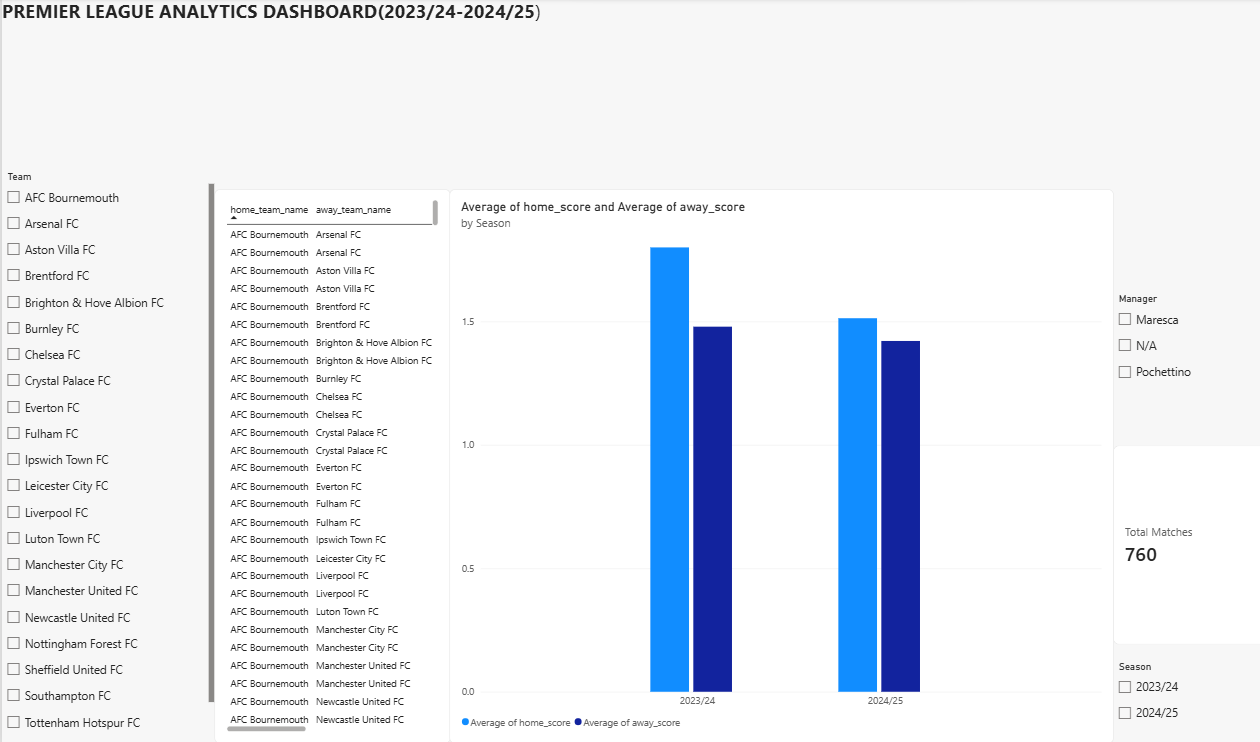

The dashboard page shown, as its layout file describes it:
{"tool":"powerbi","page":{"name":"Page 1","canvas":[1920,1080],"ordinal":0},"visuals":[{"type":"tableEx","fields":{"Values":["matches_export.home_team_name","matches_export.away_team_name","matches_export.home_score","matches_export.away_score","matches_export.utc_date.Variation.Date Hierarchy.Year","matches_export.utc_date.Variation.Date Hierarchy.Quarter","matches_export.utc_date.Variation.Date Hierarchy.Month","matches_export.utc_date.Variation.Date Hierarchy.Day","matches_export.Season"]},"box":[306.9,276.4,341.4,802.7],"z":0},{"type":"slicer","fields":{"Values":["TeamAppearances.Team"]},"box":[0,250,306.9,829.1],"z":1},{"type":"slicer","fields":{"Values":["matches_export.Season"]},"box":[1609.5,959.2,310.9,119.9],"z":2},{"type":"slicer","fields":{"Values":["matches_export.Manager"]},"box":[1609.5,426.8,310.9,229.6],"z":3},{"type":"cardVisual","fields":{"Data":["TeamAppearances.Total Matches"]},"box":[1609.5,648.3,310.9,288.6],"z":4},{"type":"clusteredColumnChart","fields":{"Category":["matches_export.Season"],"Y":["Avg(matches_export.home_score)","Avg(matches_export.away_score)"]},"box":[648.3,276.4,961.2,802.7],"z":5},{"type":"textbox","box":[100,100,300,300],"z":7},{"type":"textbox","box":[100,100,300,300],"z":8},{"type":"textbox","box":[0,0,1920.4,276.4],"z":9}]}

Visuals, with their boxes on the page's 1920x1080 design canvas (x1, y1, x2, y2). These are canvas units, not pixel positions in the 1260x742 screenshot, which may show the page scaled, cropped or inside an application window:
tableEx - matches_export.home_team_name x matches_export.away_team_name: detection(307, 276, 648, 1079)
slicer - TeamAppearances.Team: detection(0, 250, 307, 1079)
slicer - matches_export.Season: detection(1610, 959, 1920, 1079)
slicer - matches_export.Manager: detection(1610, 427, 1920, 656)
cardVisual - TeamAppearances.Total Matches: detection(1610, 648, 1920, 937)
clusteredColumnChart - matches_export.Season x Avg(matches_export.home_score): detection(648, 276, 1610, 1079)
textbox: detection(100, 100, 400, 400)
textbox: detection(100, 100, 400, 400)
textbox: detection(0, 0, 1920, 276)
